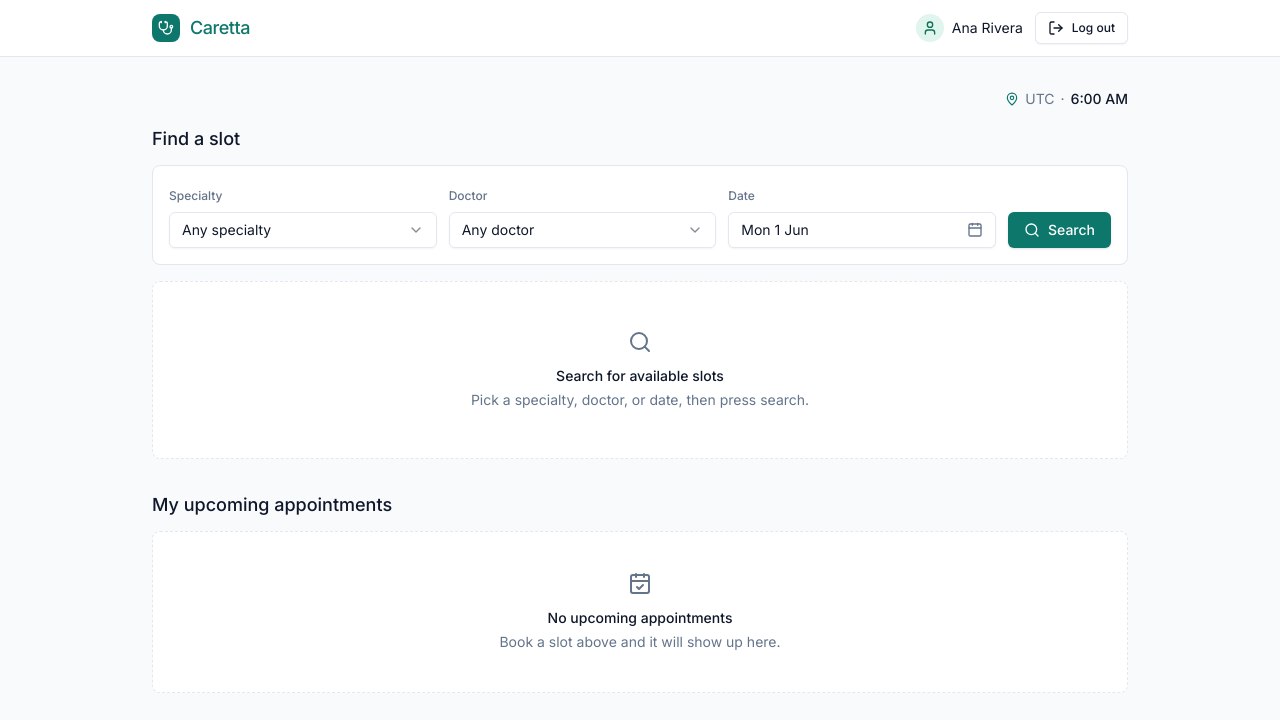
Test: Slot generation flow › counts how many slots are available right above the results
What coordinates should you click on to do the following:
click the button named "Date"
I would click on:
 (775, 230)
Its box is left=728, top=212, right=996, bottom=248.
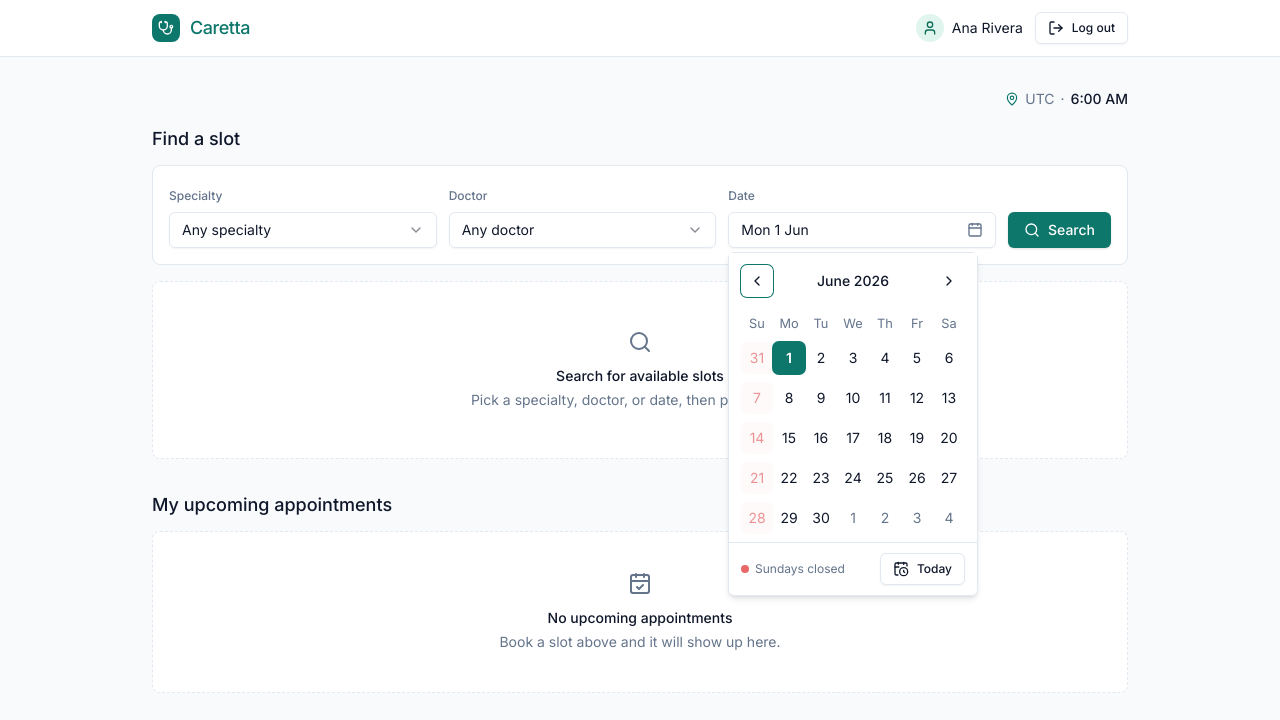
What coordinates should you click on to do the following:
click the button named "Wednesday, June 3rd, 2026"
I would click on:
 (853, 358)
Its box is left=837, top=342, right=869, bottom=374.
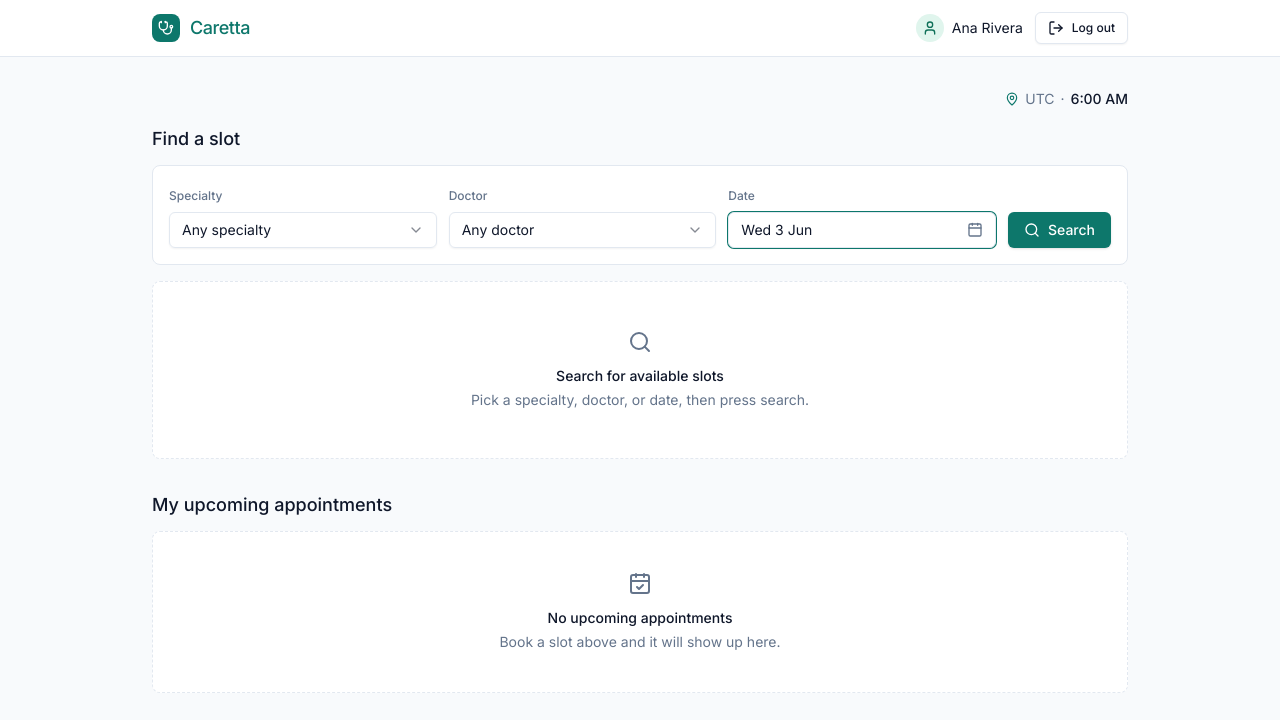
What coordinates should you click on to do the following:
click the button "Search"
I would click on:
 (1060, 230)
Its box is left=1008, top=212, right=1111, bottom=248.
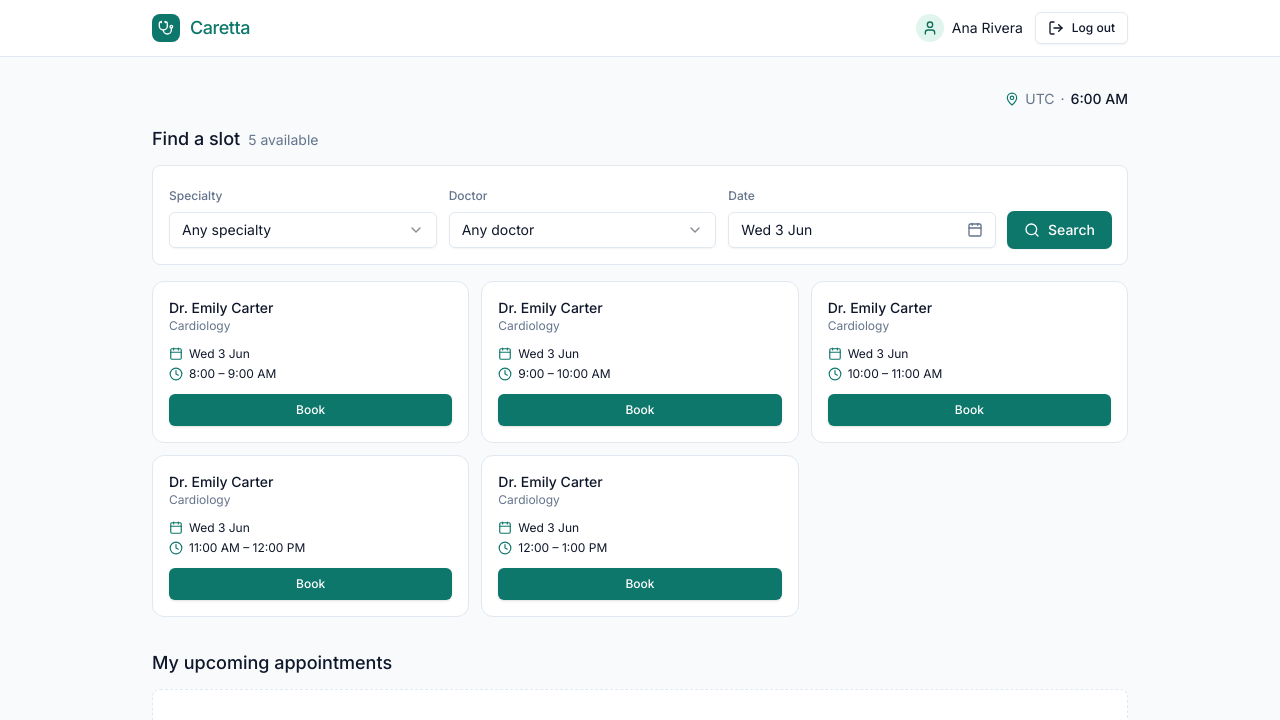
Now the text "5 available" is shown, box left=248, top=130, right=318, bottom=150
